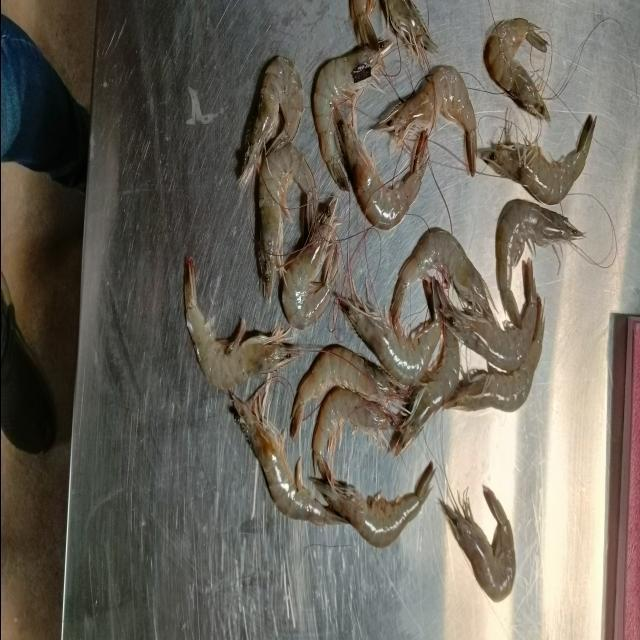shrimp: (184, 252, 298, 390), (230, 395, 346, 528), (289, 344, 408, 446), (333, 278, 442, 389), (313, 38, 392, 191), (441, 296, 543, 413), (494, 199, 585, 330), (392, 281, 459, 456), (333, 107, 428, 230), (375, 64, 476, 178), (438, 258, 536, 373), (478, 114, 597, 206), (388, 225, 493, 329), (306, 465, 435, 549), (438, 485, 515, 603), (259, 141, 315, 301), (239, 57, 303, 183), (281, 197, 340, 330), (312, 389, 398, 476), (486, 18, 550, 121)
